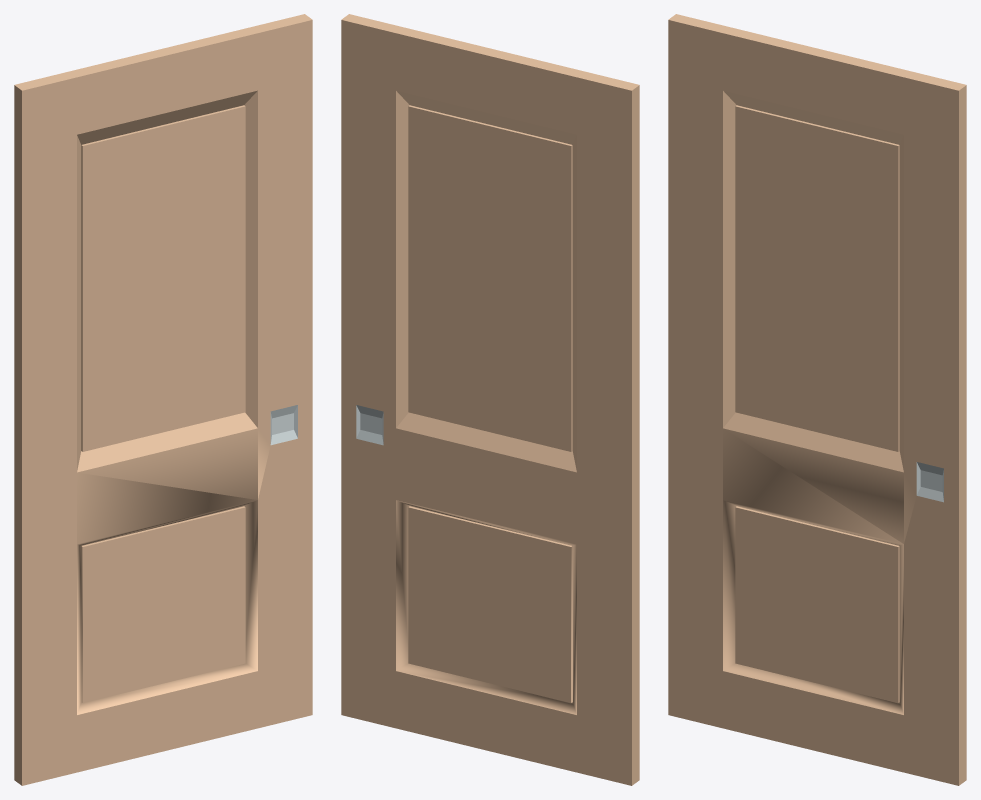
The model's file is porta-sliding.glb.
3 views of the same model, side by side, from view 1: azimuth 30°, elevation 25°; view 2: azimuth 150°, elevation 25°; view 3: azimuth 330°, elevation 25° (orthographic).
Visible parts, largest first — view 1: door; view 2: door; view 3: door.
Boxes of the visible parts, left/top/right/bottom form: door: left=14, top=14, right=312, bottom=785; door: left=341, top=14, right=639, bottom=785; door: left=668, top=14, right=966, bottom=785.
Bounding box in the file's own units: 0.4293 × 0.9812 × 0.0204.
